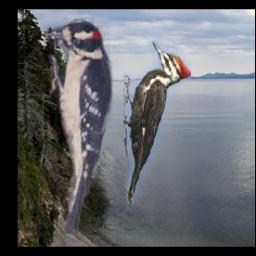Woodpecker: (44, 15, 114, 234), (124, 42, 192, 213)
